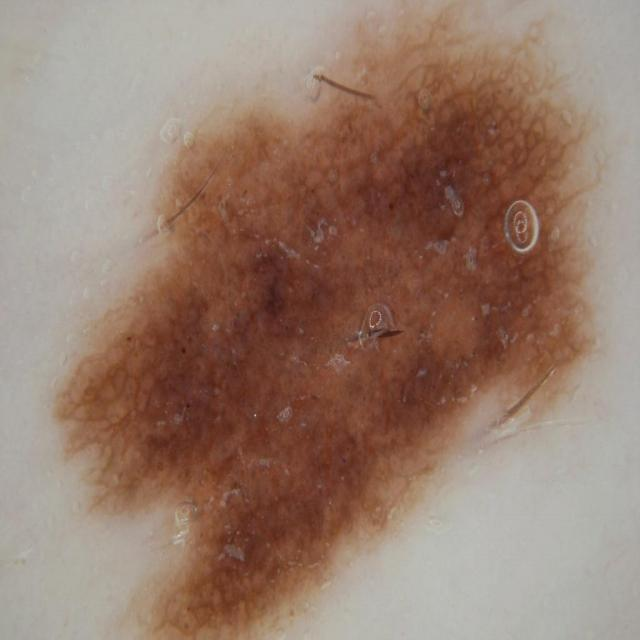Skin-Cancer Nevus: (55, 20, 640, 640)
